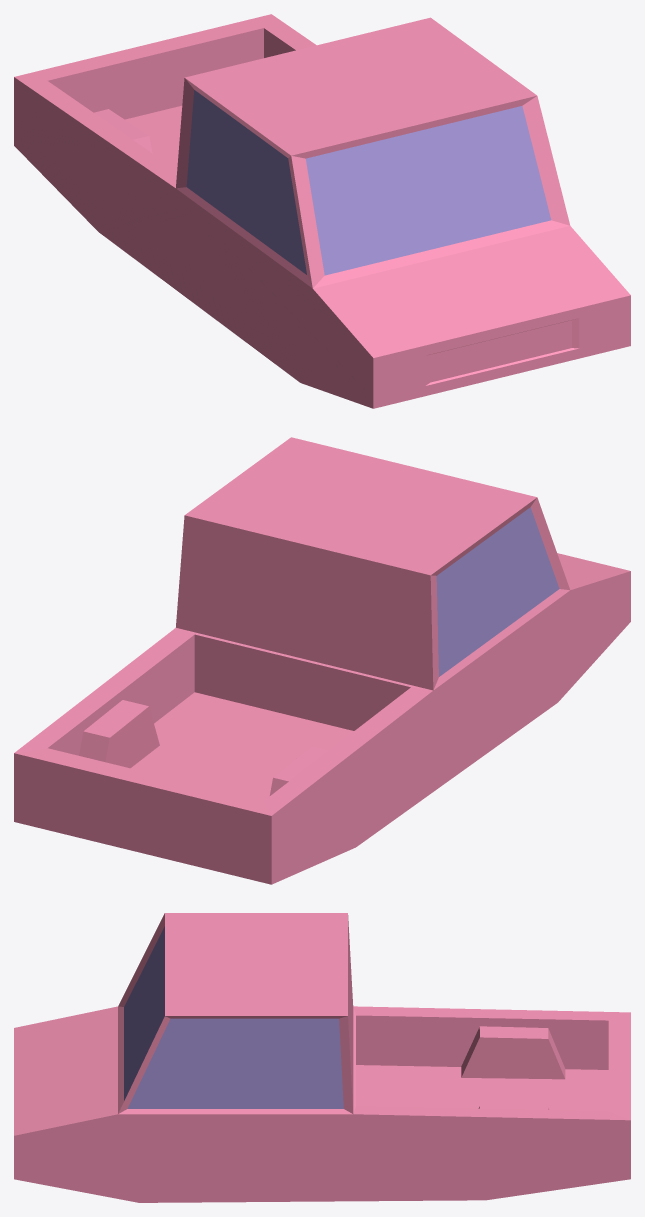
Rendered from car_1.FBX.
3 views of the same model, one above another, from view 1: azimuth 30°, elevation 25°; view 2: azimuth 150°, elevation 25°; view 3: azimuth 270°, elevation 25° (orthographic). The views are drawn at different scales.
Visible parts, largest first — view 1: car_1; view 2: car_1; view 3: car_1.
Part boxes in pixels (x1,y1,x2,y2): car_1: (14, 14, 630, 408); car_1: (14, 437, 630, 884); car_1: (14, 913, 630, 1202).
Bounding box in the file's own units: 2.45 × 1.96 × 5.93.
